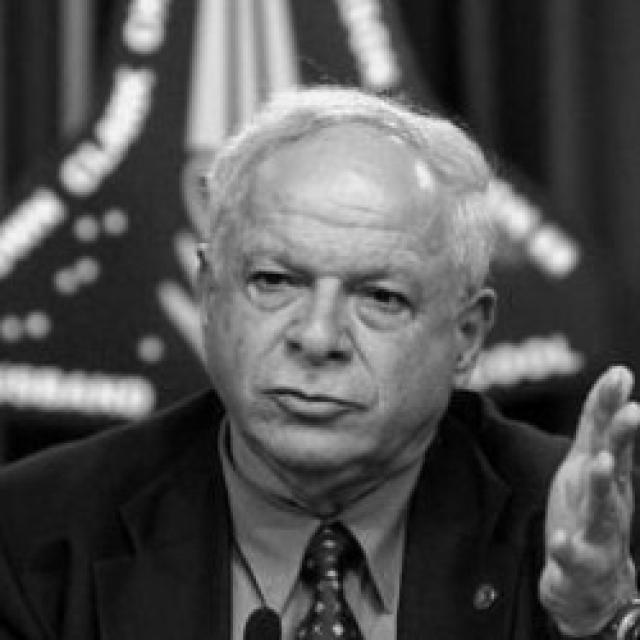real: (206, 142, 456, 473), (241, 262, 422, 326)
